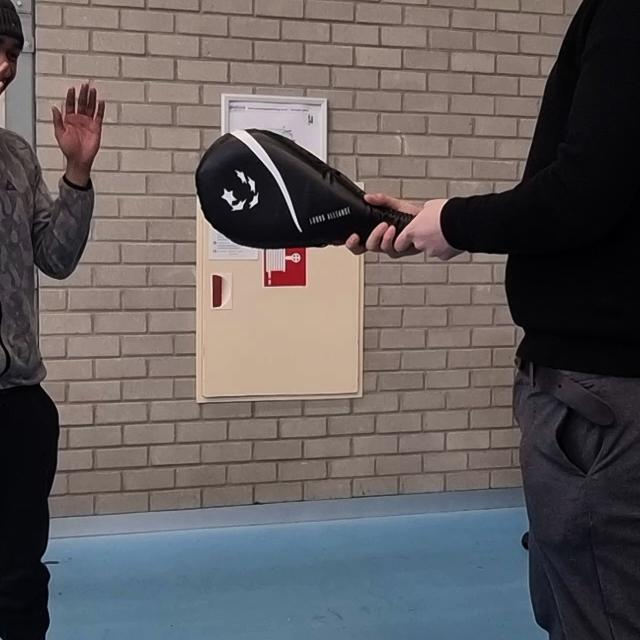paddle: (194, 129, 420, 248)
